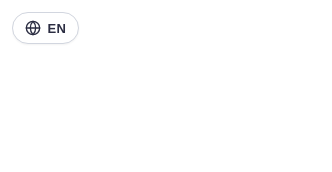
Test: LanguageToggle › shows the active language and switches to Spanish
What coordinates should you click on to do the following:
click the button with aria-label "Change language to Spanish"
I would click on:
 (46, 28)
Its box is 12,12 -> 79,44.
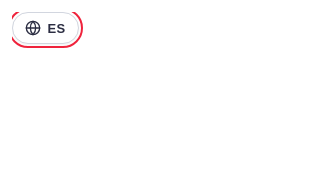
Expected: the button with aria-label "Cambiar idioma a Inglés" reads "ES", 12,12 -> 78,44
